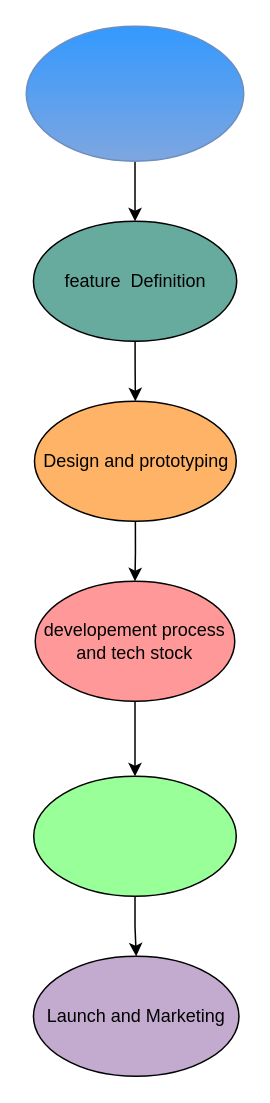
The diagram is 270 pixels wide and 1103 high, and some of its shapes have lost their labels. Here are the shapes that lost their labels. From the top down, the box of each, then its label:
(25, 25, 244, 161): Define your USPs
(32, 775, 236, 896): QA and testing
